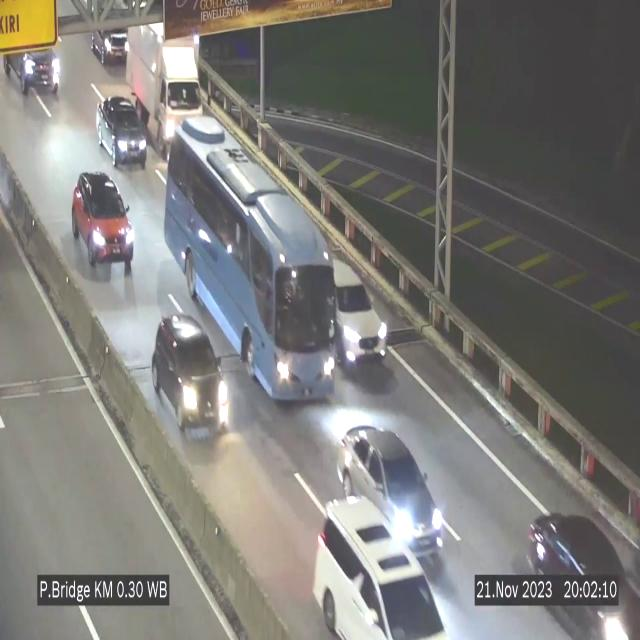Bus: (163, 114, 338, 405)
Car: (517, 477, 640, 639), (315, 494, 451, 640), (334, 422, 442, 558), (151, 313, 230, 436), (69, 168, 134, 271), (332, 264, 397, 366), (1, 20, 67, 102), (91, 91, 150, 173), (89, 8, 133, 72)
Truck: (120, 24, 208, 140)
